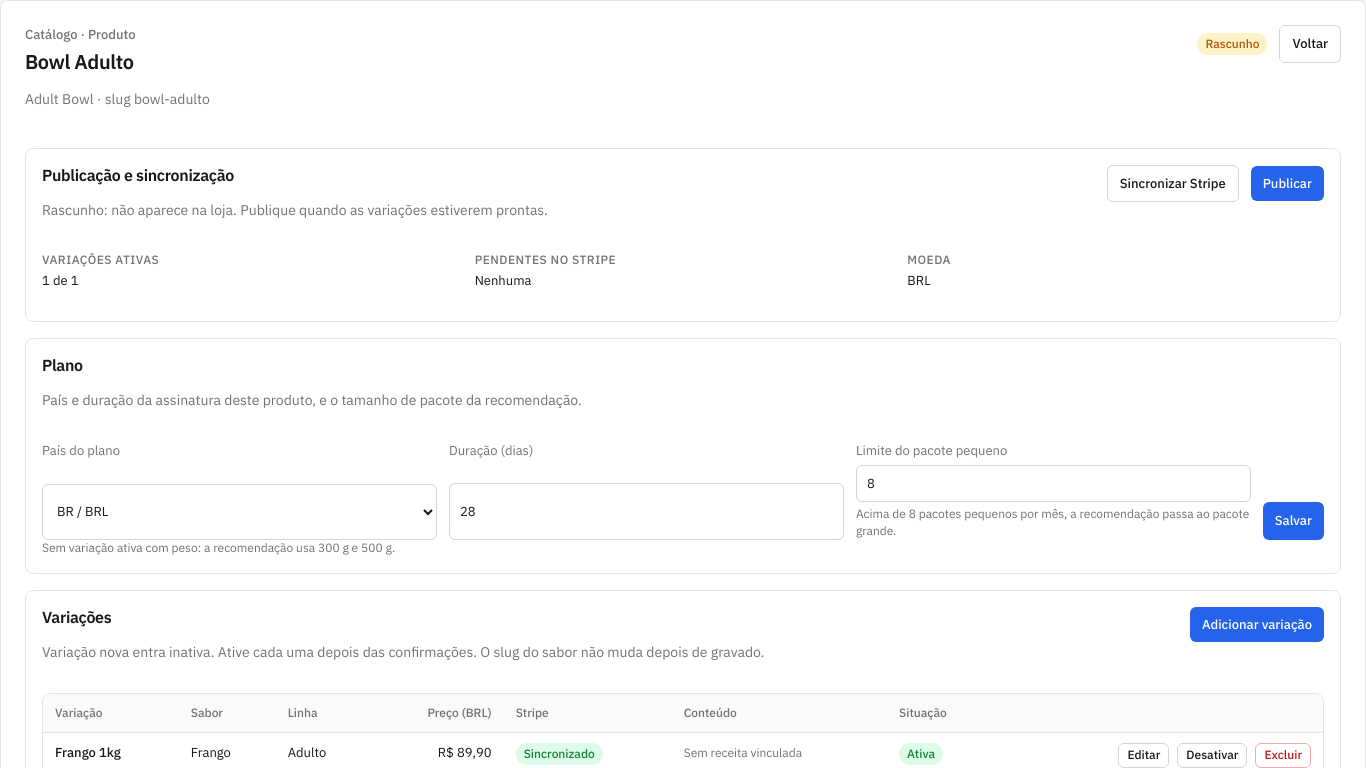
Test: ProductDetailPage › saves the life stage line of a variation without a recipe and shows it in the table
The image size is (1366, 768).
Click the button with aria-label "Editar variação Frango 1kg". click: [1144, 755]
box: [1118, 743, 1169, 767]
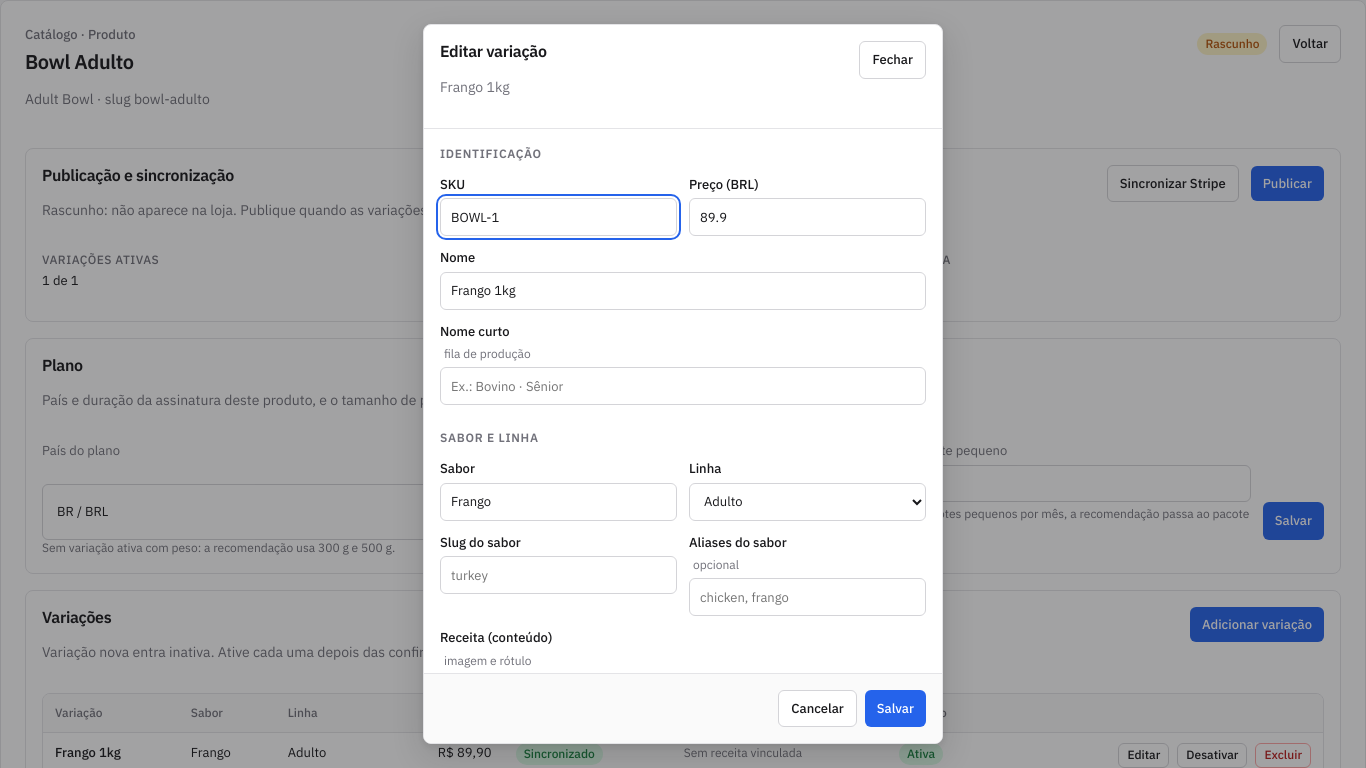
Check: the dropdown labelled "Linha" shows "Adulto"
Select "Sênior" in the dropdown labelled "Linha". click: [808, 502]
box: [689, 483, 926, 521]
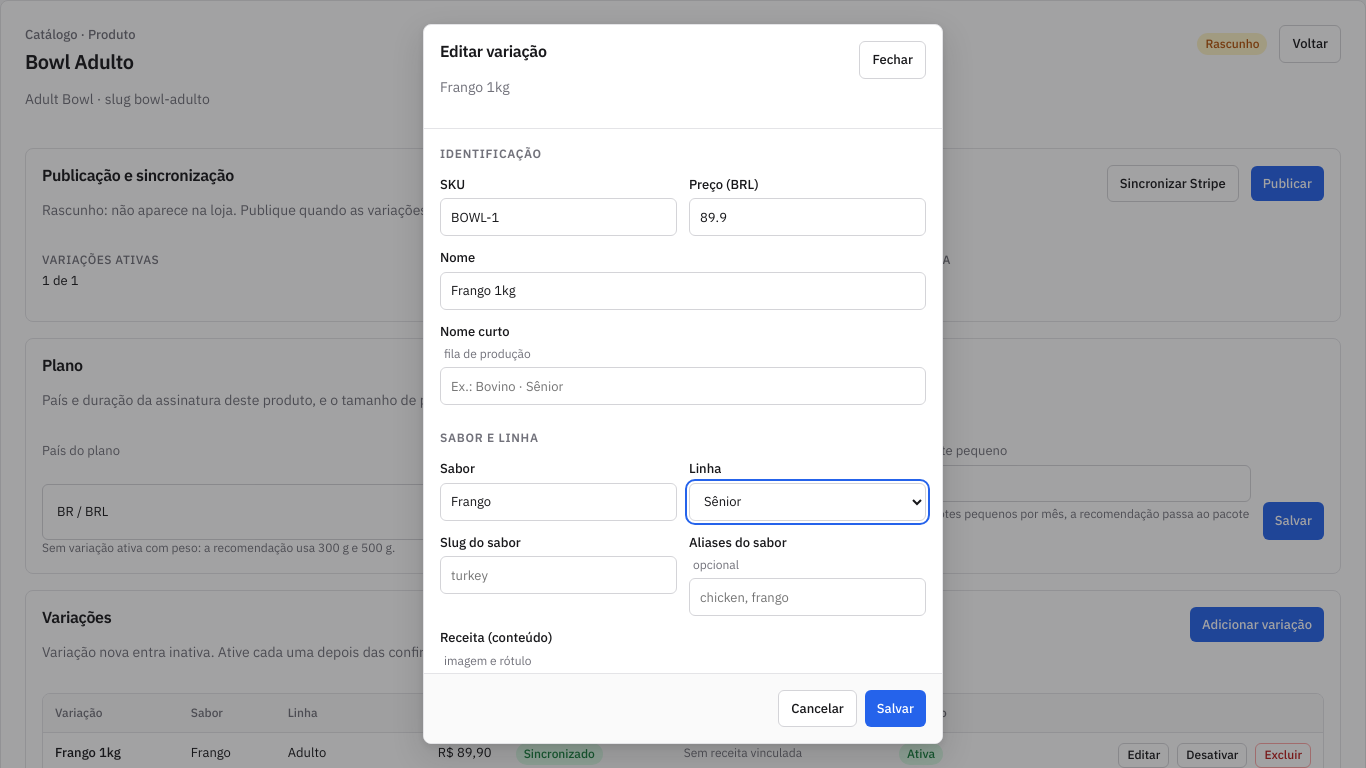
Click the button with aria-label "Salvar variação". click: [895, 708]
box: [865, 690, 926, 727]
(page scrolled)
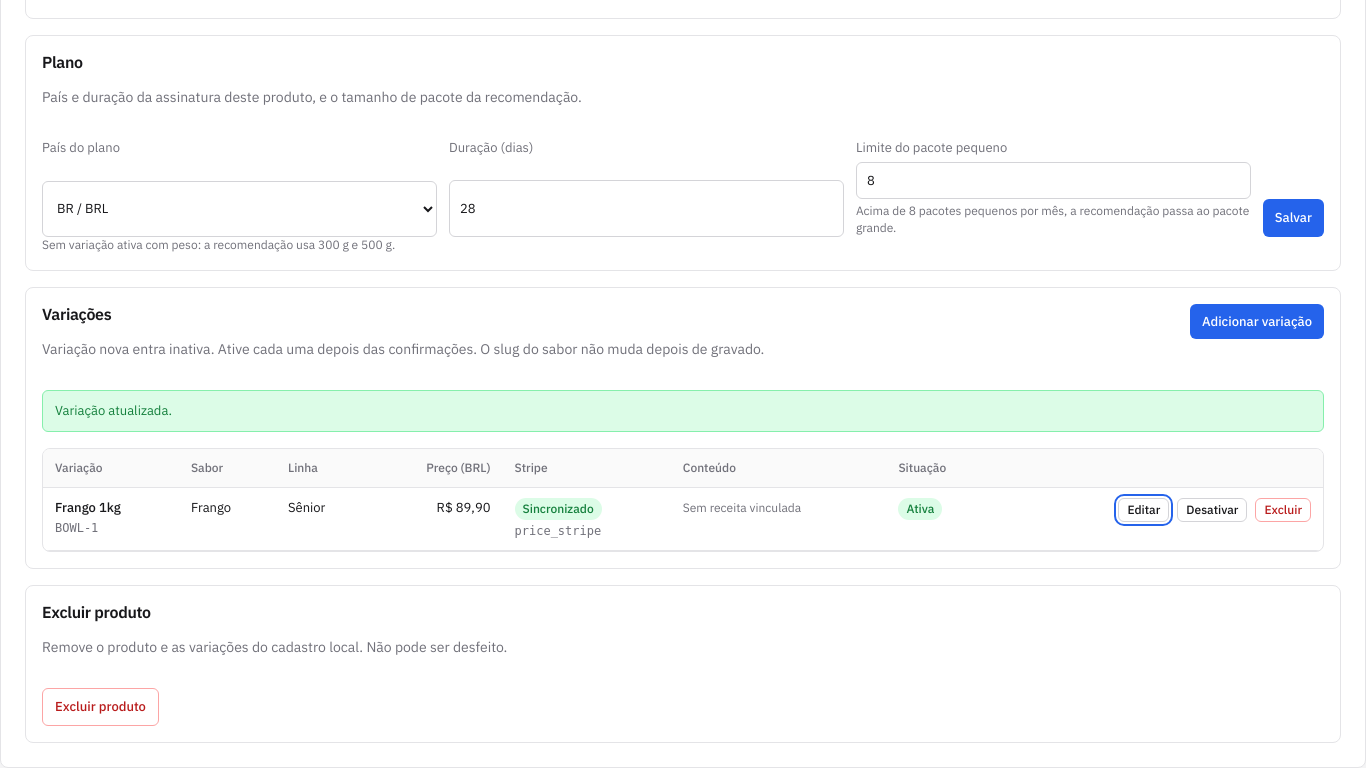
Check: the text "Variação atualizada." is shown, box [42, 390, 1324, 432]
